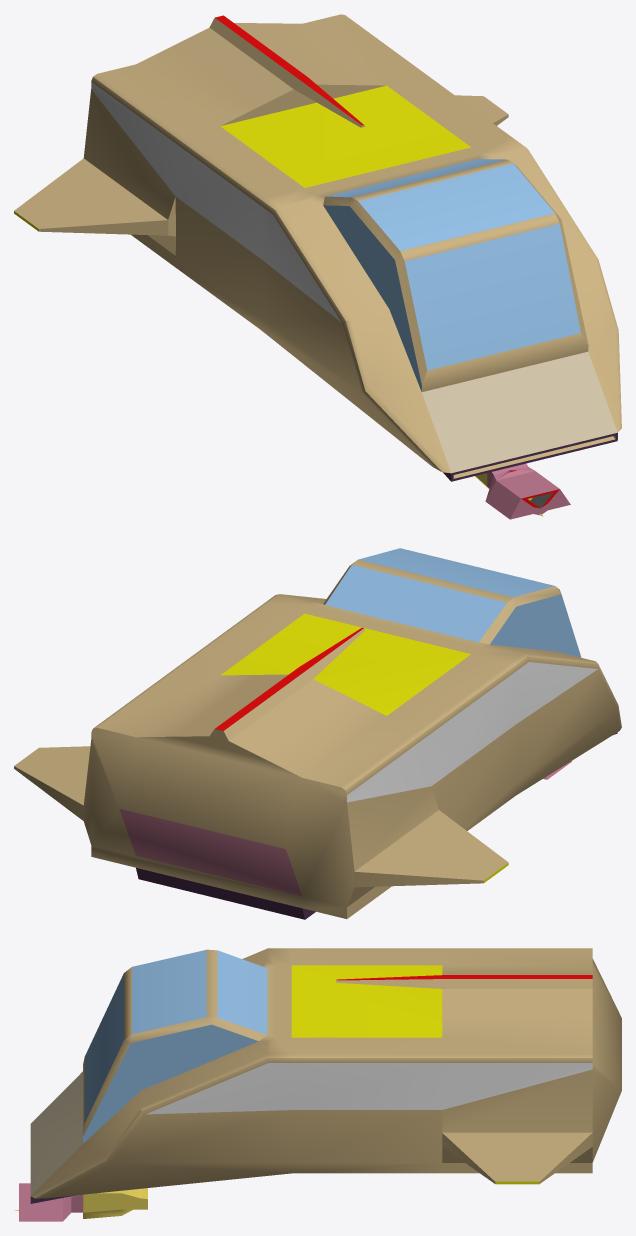
Rendered from Dummy_light_drone_fbx.fbx.
3 renders of one model, top to bottom at view 1: azimuth 30°, elevation 25°; view 2: azimuth 150°, elevation 25°; view 3: azimuth 270°, elevation 25°, orthographic. The views are drawn at different scales.
Parts seen in each view (by area): view 1: Dummy_light_drone, Drone_Rifle; view 2: Dummy_light_drone; view 3: Dummy_light_drone, Drone_Rifle.
Part boxes in pixels (x1,y1,x2,y2): Dummy_light_drone: (14, 14, 621, 481); Drone_Rifle: (475, 463, 570, 519); Dummy_light_drone: (14, 548, 621, 919); Dummy_light_drone: (30, 948, 621, 1203); Drone_Rifle: (14, 1183, 147, 1221).
Bounding box in the file's own units: 0.6367 × 0.3473 × 0.801.
